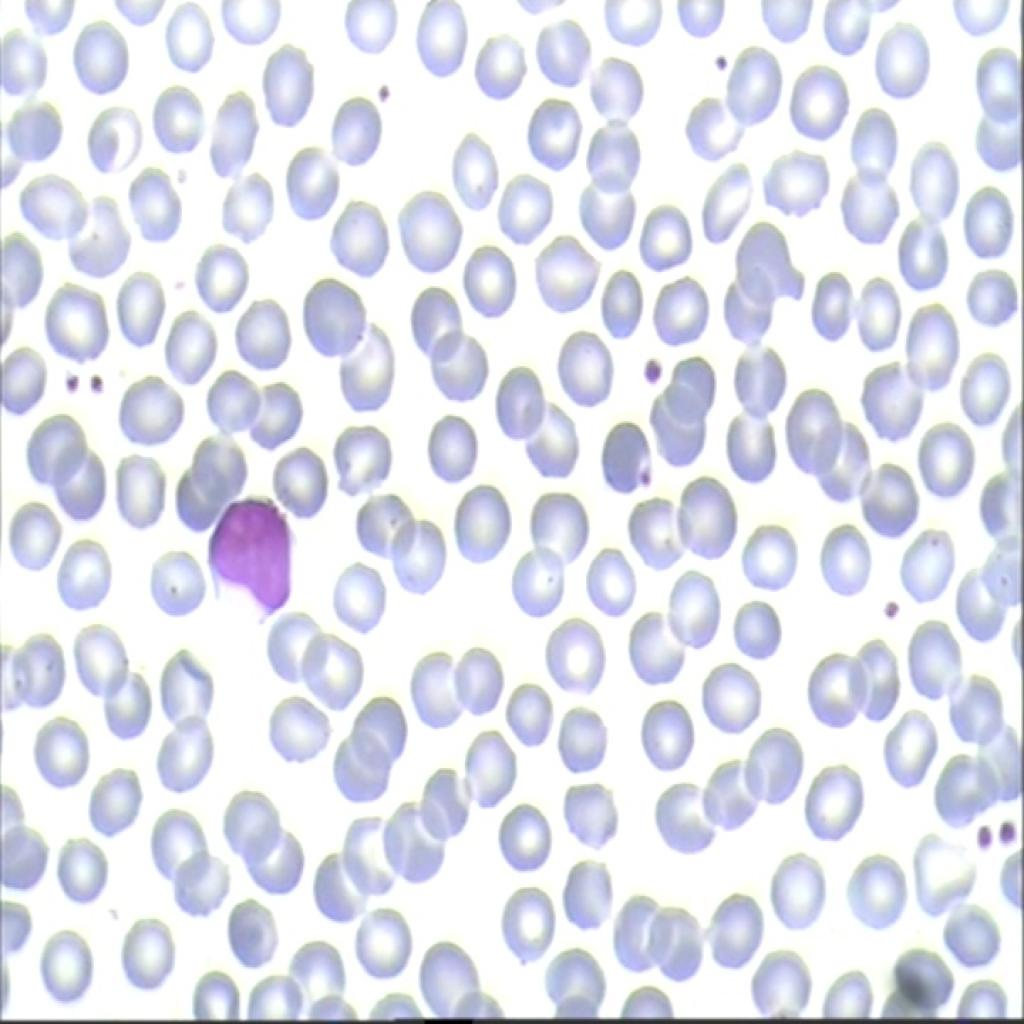Limfosit: (200, 487, 294, 628)
Platelet: (987, 804, 1020, 854), (631, 345, 667, 389), (706, 34, 736, 85), (367, 74, 401, 116), (875, 587, 903, 633), (960, 810, 990, 852), (87, 364, 118, 400), (57, 362, 88, 394)
